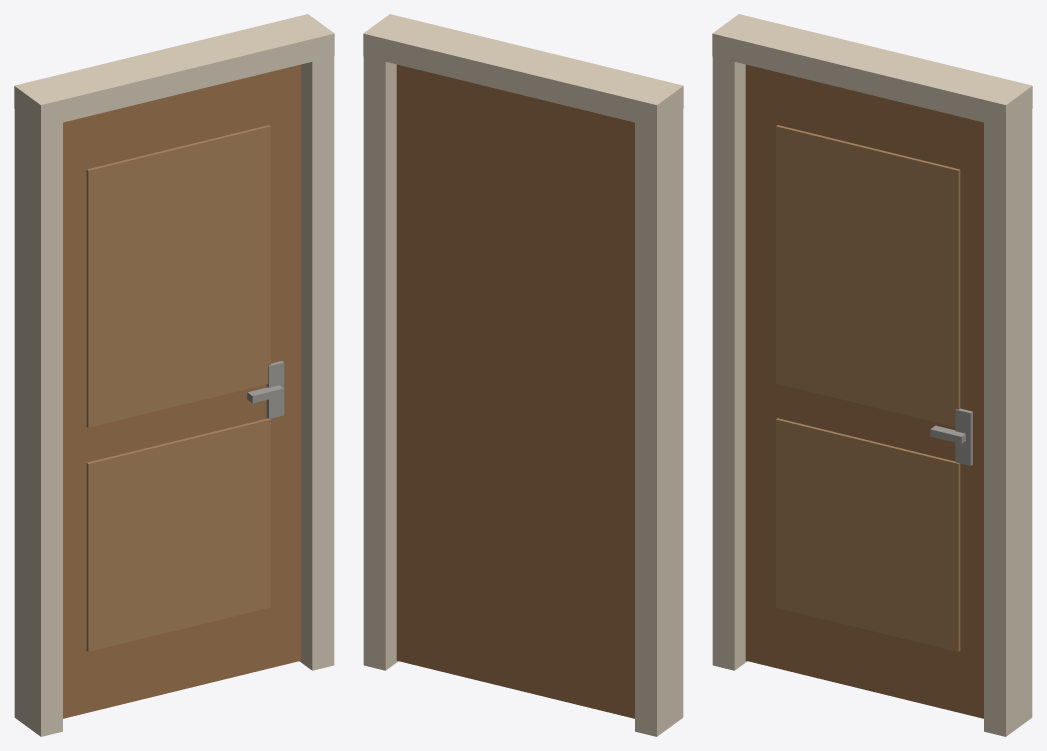
File: interior_door.glb
3 views of the same model, side by side, from view 1: azimuth 30°, elevation 25°; view 2: azimuth 150°, elevation 25°; view 3: azimuth 330°, elevation 25° (orthographic).
Visible parts, largest first — view 1: Door slab, Raised panel.001, Raised panel, Jamb, Jamb.001, Header, Lever plate; view 2: Door slab, Jamb, Jamb.001, Header; view 3: Door slab, Raised panel.001, Raised panel, Jamb.001, Jamb, Header, Lever plate.
Boxes of the visible parts, box(x1,y1,x2,y2) form: Door slab: box(63, 64, 301, 718); Raised panel.001: box(86, 125, 270, 427); Raised panel: box(86, 418, 270, 651); Jamb: box(14, 109, 62, 736); Jamb.001: box(299, 56, 334, 670); Header: box(14, 14, 334, 127); Lever plate: box(266, 361, 284, 418); Door slab: box(396, 64, 634, 718); Jamb: box(635, 109, 683, 736); Jamb.001: box(363, 56, 398, 670); Header: box(363, 14, 683, 127); Door slab: box(745, 64, 983, 718); Raised panel.001: box(776, 125, 960, 426); Raised panel: box(776, 418, 960, 651); Jamb.001: box(984, 109, 1032, 736); Jamb: box(712, 56, 747, 670); Header: box(712, 14, 1032, 127); Lever plate: box(955, 408, 972, 465).
Bounding box in the file's own units: 1.06 × 2.17 × 0.166.
